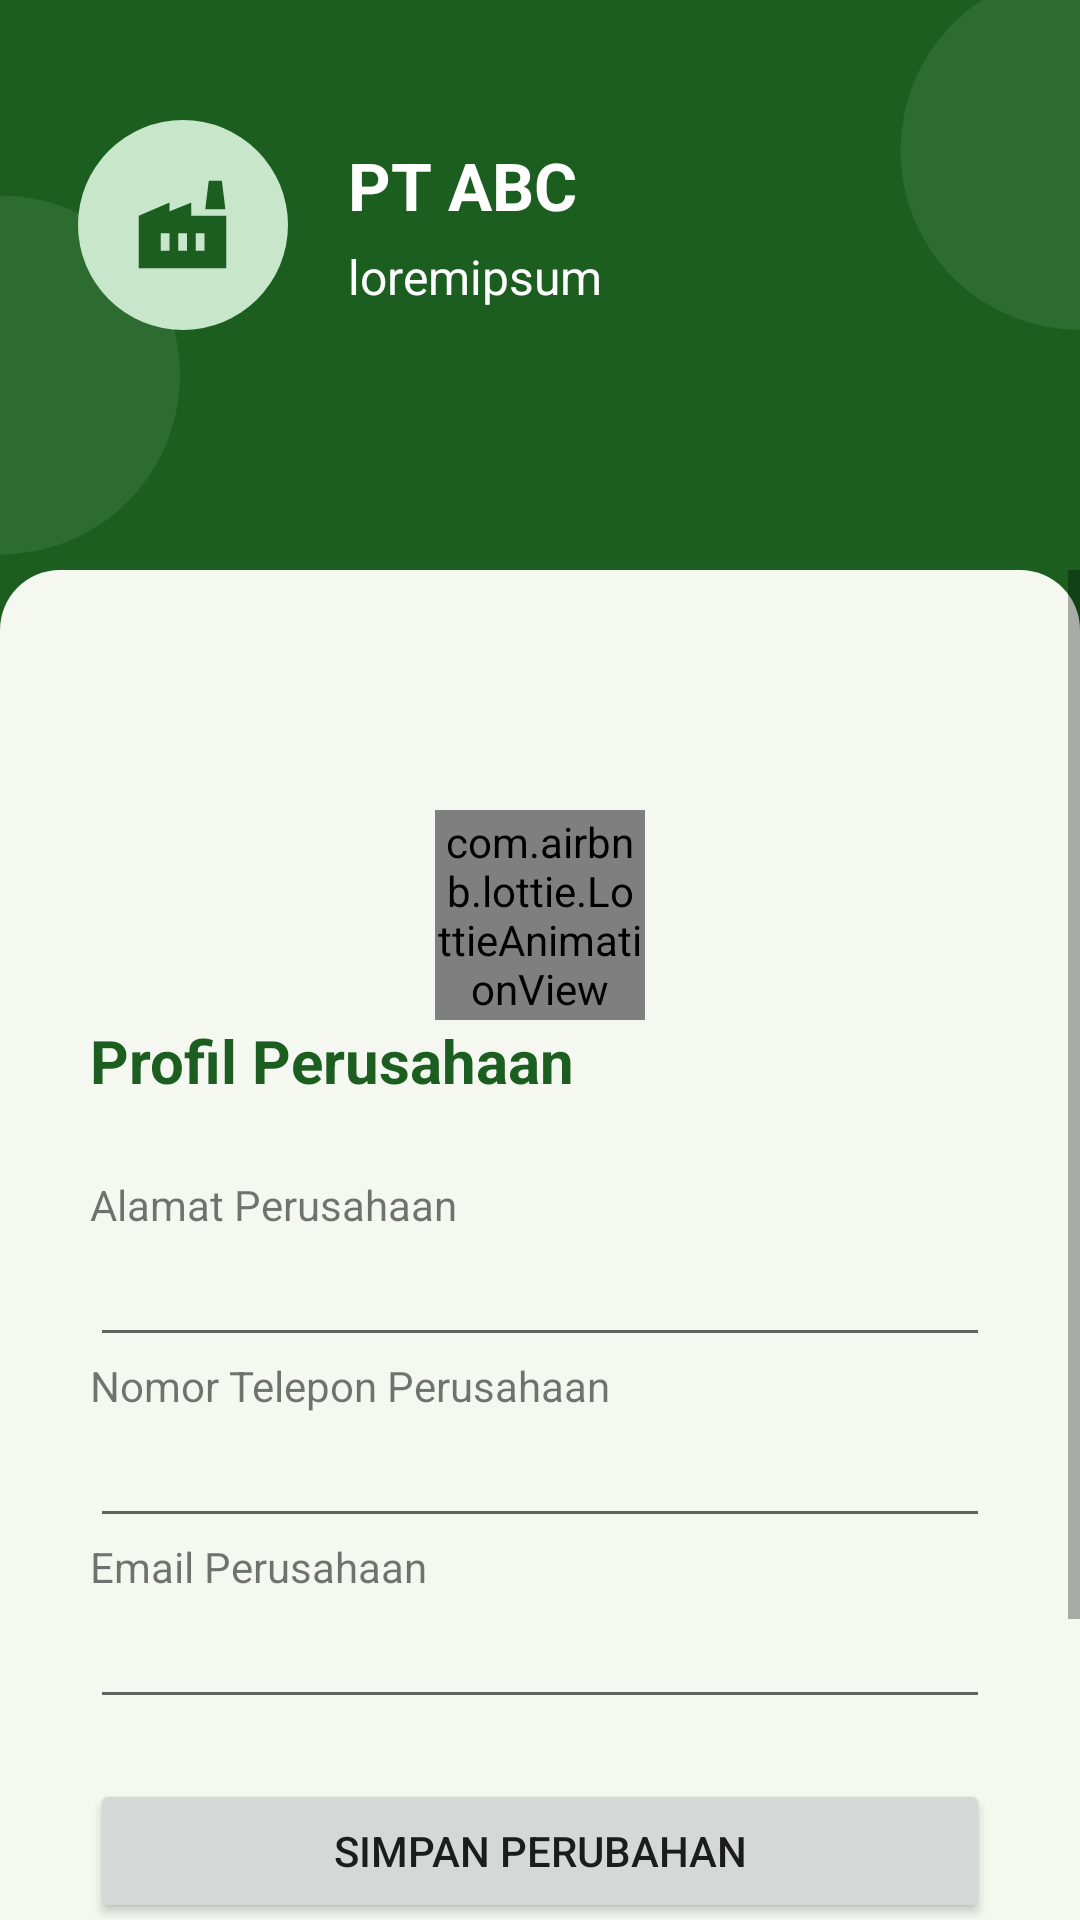

Named icons in this screenshot (1080w x 1920h) and their centers, [x,y]:
factory: [182,224]
